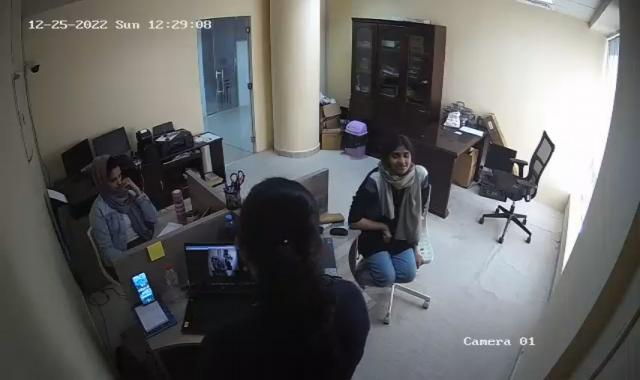no_hairnet: (240, 176, 326, 294), (384, 132, 413, 175), (90, 153, 122, 186)
